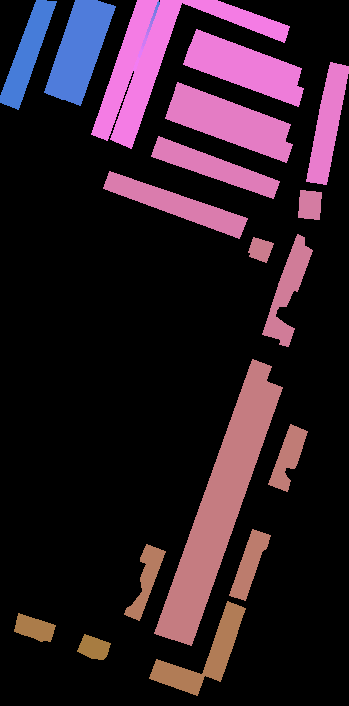parkingspot: (154, 359, 271, 639), (170, 380, 282, 645), (110, 0, 182, 148), (103, 171, 247, 238), (91, 0, 158, 140), (151, 136, 279, 198), (165, 100, 292, 162), (183, 46, 303, 106), (171, 82, 290, 142), (189, 29, 301, 86), (0, 0, 56, 109), (61, 0, 115, 105), (44, 0, 97, 99), (306, 62, 349, 184), (181, 0, 289, 42), (202, 601, 245, 681), (124, 544, 165, 620), (229, 529, 270, 600), (268, 424, 307, 491), (149, 659, 204, 695), (278, 234, 312, 291), (262, 282, 294, 339), (14, 613, 55, 641), (77, 634, 110, 659), (298, 190, 321, 219), (248, 237, 273, 262), (279, 324, 294, 346)
